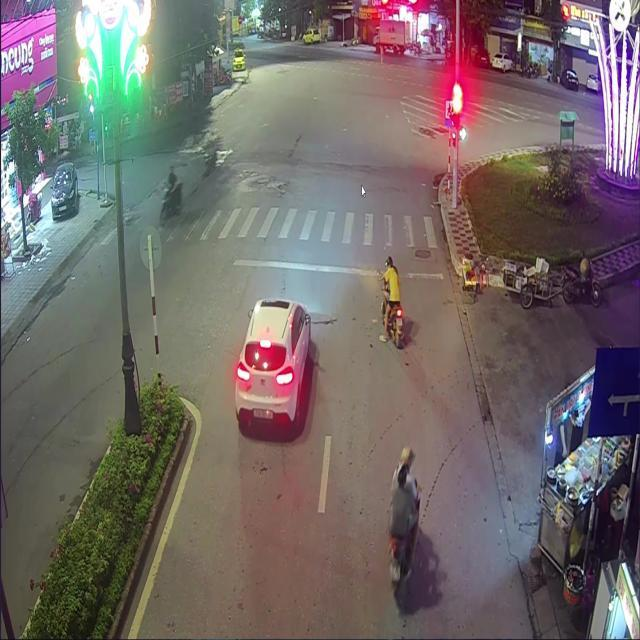car: (233, 298, 314, 440)
motobike: (378, 255, 403, 348)
red_light: (452, 77, 461, 130)
stop_line: (228, 256, 440, 277)
